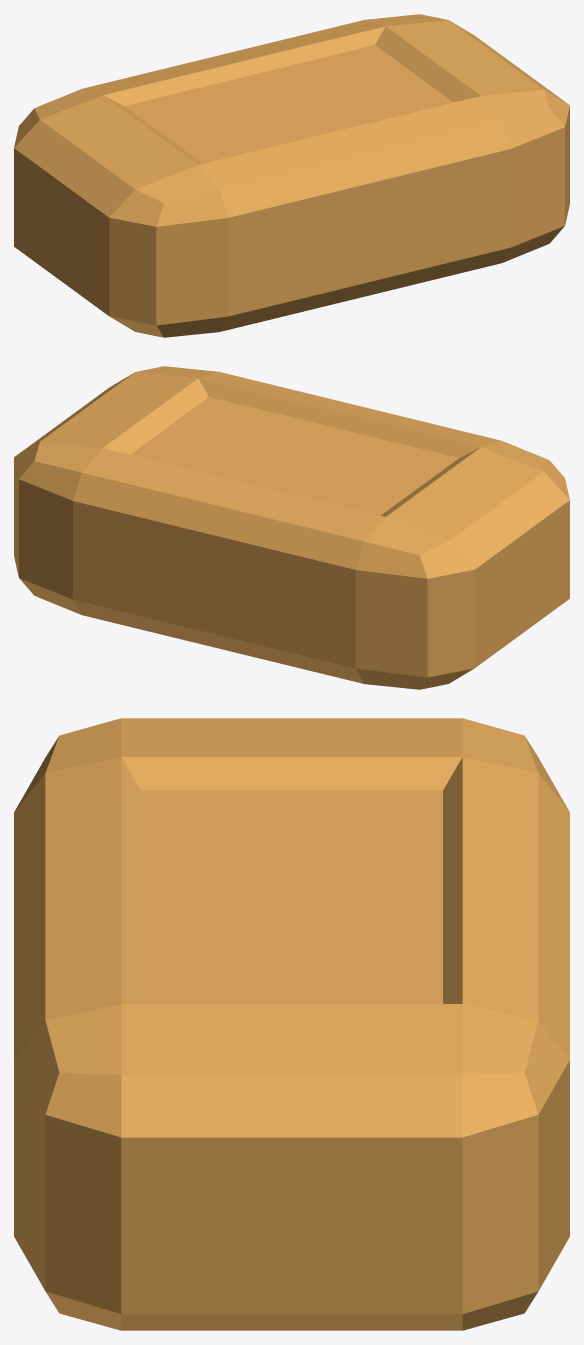
Rendered from SoapBar.fbx.
The picture shows the model from 3 angles, top to bottom: view 1: azimuth 30°, elevation 25°; view 2: azimuth 150°, elevation 25°; view 3: azimuth 270°, elevation 25°; orthographic projection. The views are drawn at different scales.
Parts seen in each view (by area): view 1: SoapBar; view 2: SoapBar; view 3: SoapBar.
Boxes of the visible parts, x1,y1,x2,y2 form: SoapBar: [14, 14, 569, 337]; SoapBar: [14, 366, 569, 689]; SoapBar: [14, 718, 569, 1330].
Bounding box in the file's own units: 12 × 4 × 7.
